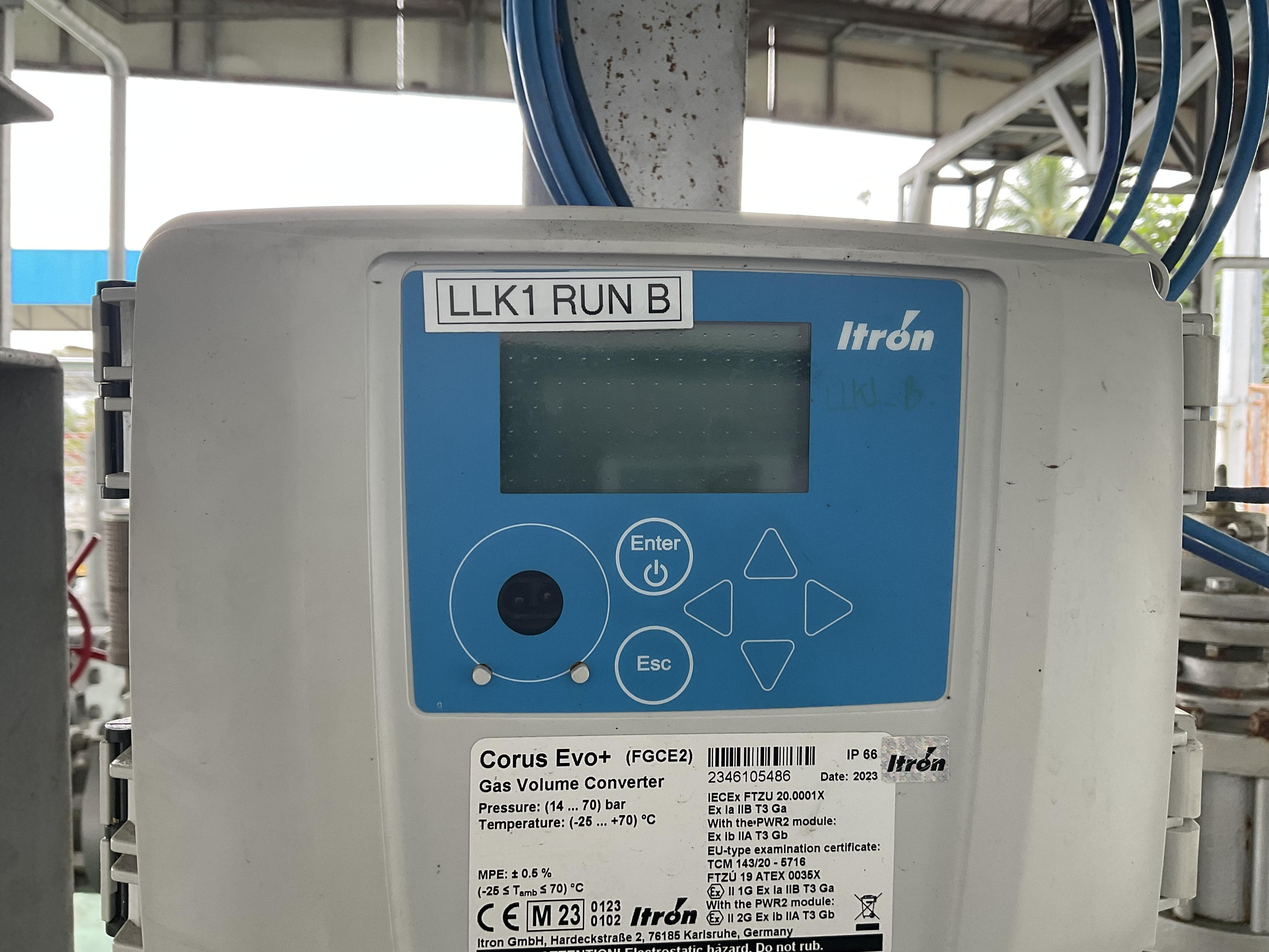digital_screen: (498, 321, 811, 495)
